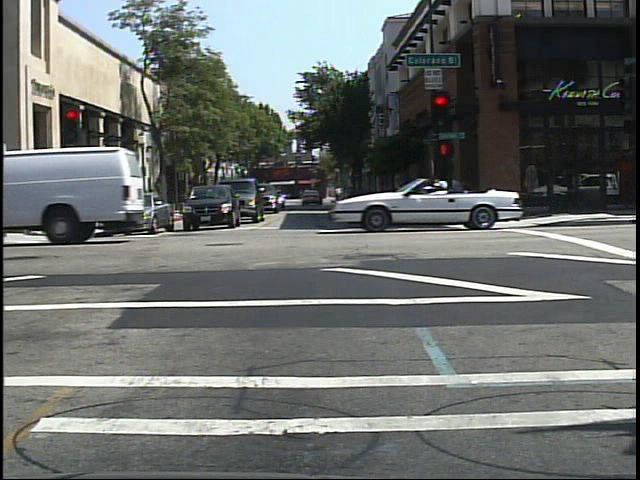person: (94, 180, 113, 227)
